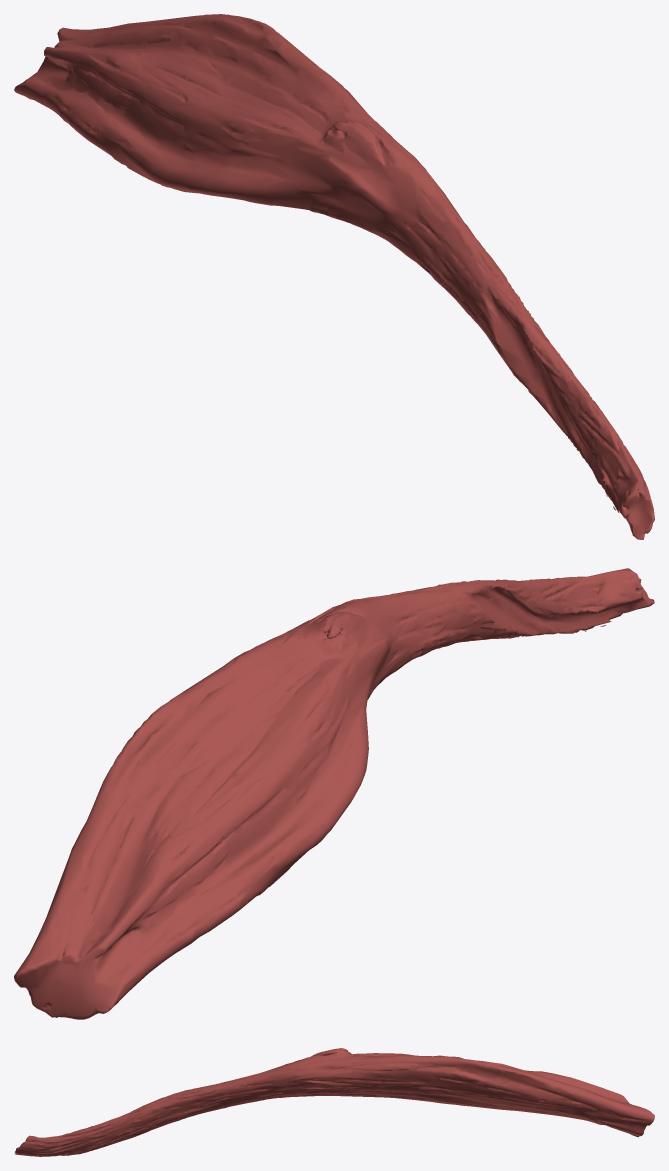
File: FMA37459.glb
3 renders of one model, top to bottom at view 1: azimuth 30°, elevation 25°; view 2: azimuth 150°, elevation 25°; view 3: azimuth 270°, elevation 25°, orthographic. The views are drawn at different scales.
Visible parts, largest first — view 1: FMA37459; view 2: FMA37459; view 3: FMA37459.
Boxes of the visible parts, bbox=[...] form: FMA37459: bbox=[14, 14, 654, 539]; FMA37459: bbox=[14, 568, 654, 1019]; FMA37459: bbox=[14, 1048, 654, 1156].
Bounding box in the file's own units: 0.0197 × 0.0261 × 0.1405.
